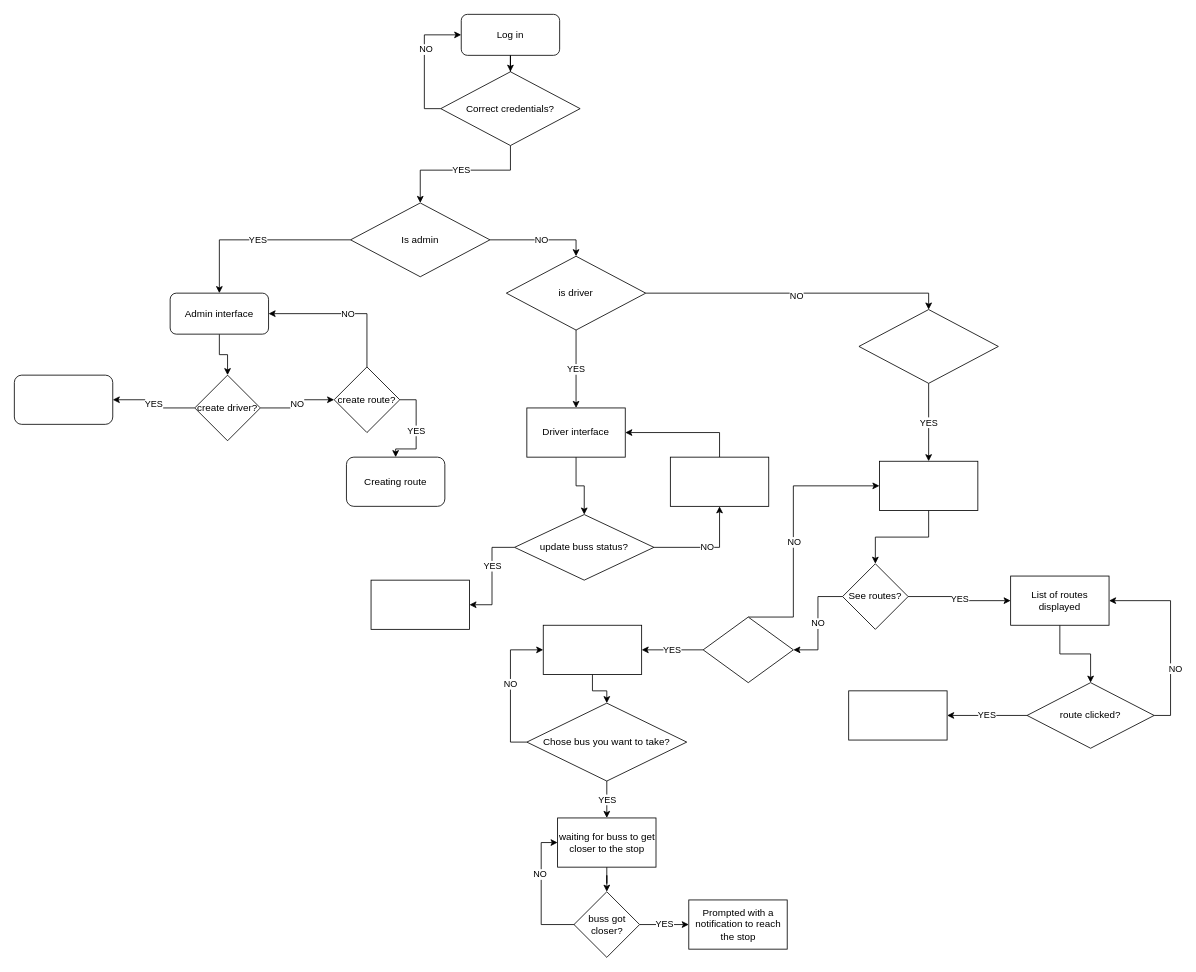
This 1196x972 diagram has some shape labels left out. Each missing label, with the centre of its shape:
"check a buss?" belongs at [747,649].
"Creating driver account" belongs at [63,399].
"is standard user" belongs at [928,346].
"Provides current buss coordinates" belongs at [719,481].
"Route is highlighted on the map" belongs at [897,715].
"See minutes busses need to reach that stop" belongs at [592,649].
"Selecting the buss it drives and its status to working" belongs at [419,604].
"Standard User Interface" belongs at [928,485].
